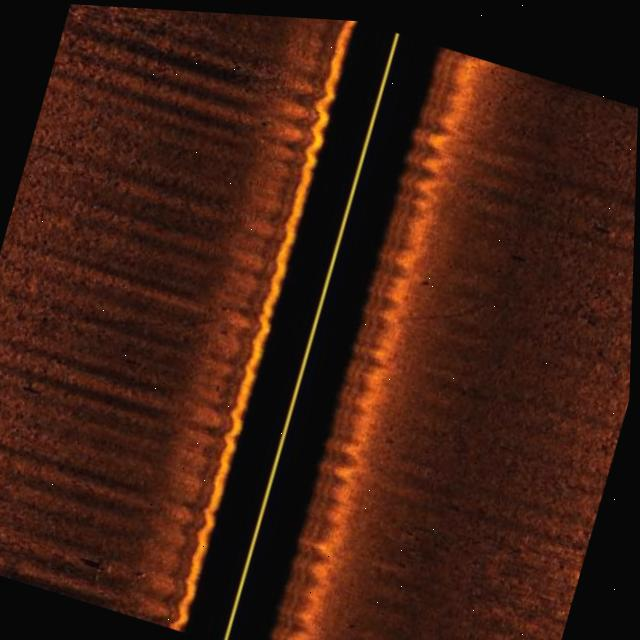mine: (136, 566, 152, 579)
